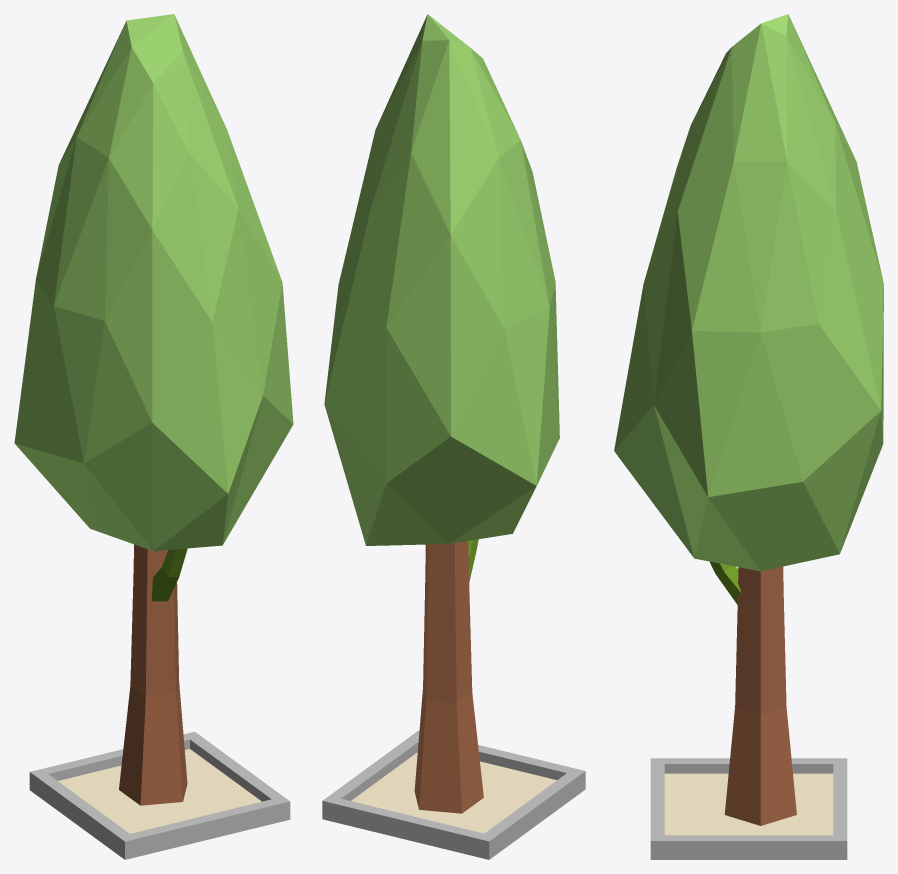
Rendered from Tree.glb.
3 views of the same model, side by side, from view 1: azimuth 30°, elevation 25°; view 2: azimuth 150°, elevation 25°; view 3: azimuth 270°, elevation 25° (orthographic). The views are drawn at different scales.
Parts seen in each view (by area): view 1: Tree_1; view 2: Tree_1; view 3: Tree_1.
Boxes of the visible parts, x1=… form: Tree_1: x1=14, y1=14, x2=293, y2=859; Tree_1: x1=322, y1=14, x2=585, y2=859; Tree_1: x1=614, y1=14, x2=883, y2=859.
Size of the model in its own units: 4.06 by 13.33 by 4.05.
1 material, 1 textured.
